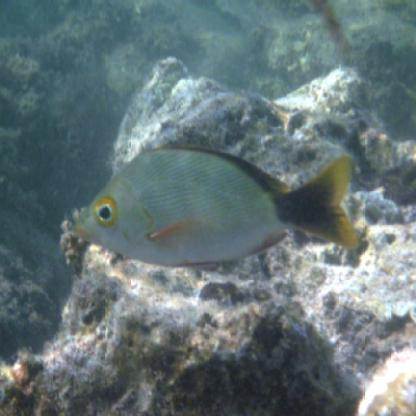Bio: (66, 138, 367, 274)
